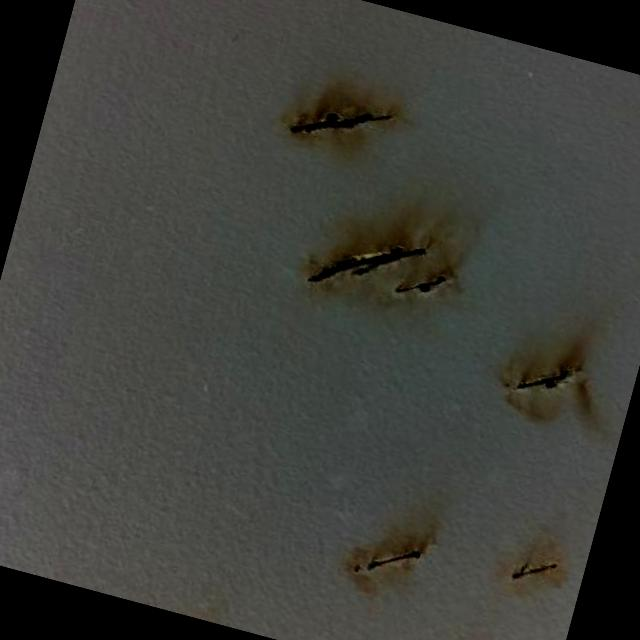crack: (312, 225, 424, 301), (298, 96, 388, 156), (514, 358, 578, 404), (360, 540, 420, 588), (398, 269, 446, 305), (516, 556, 558, 590)
